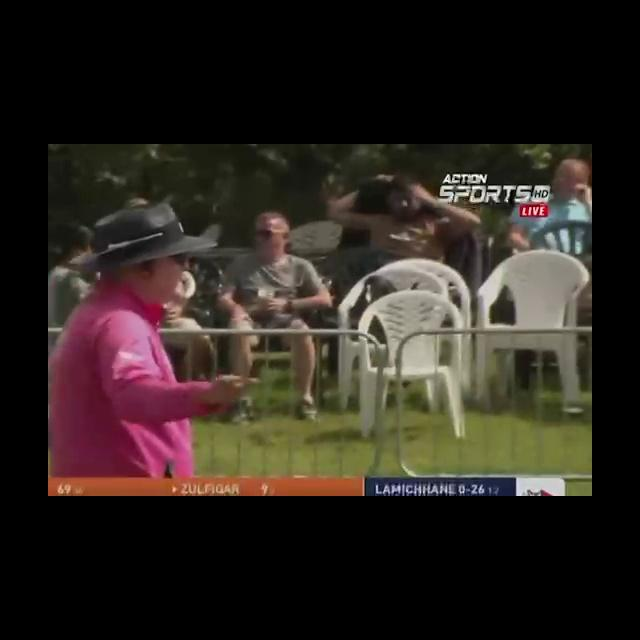umpire: (49, 170, 346, 466)
